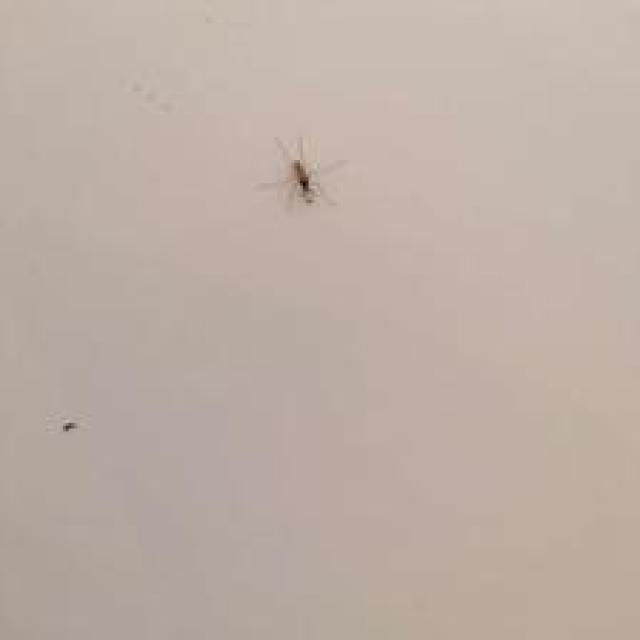Culex: (254, 134, 349, 209)
